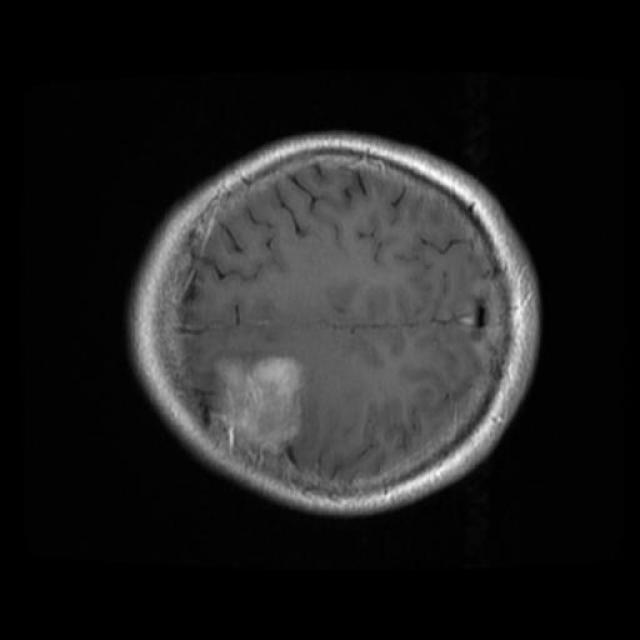Meningioma: (209, 357, 303, 453)
